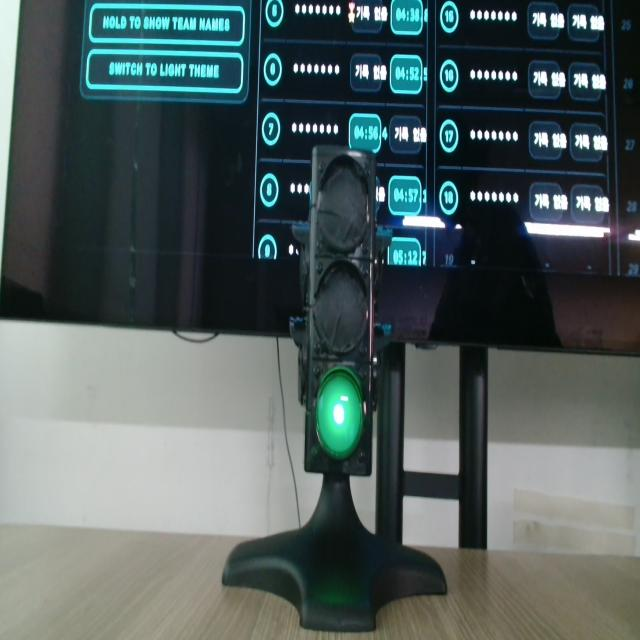green_light: (316, 368, 363, 459)
